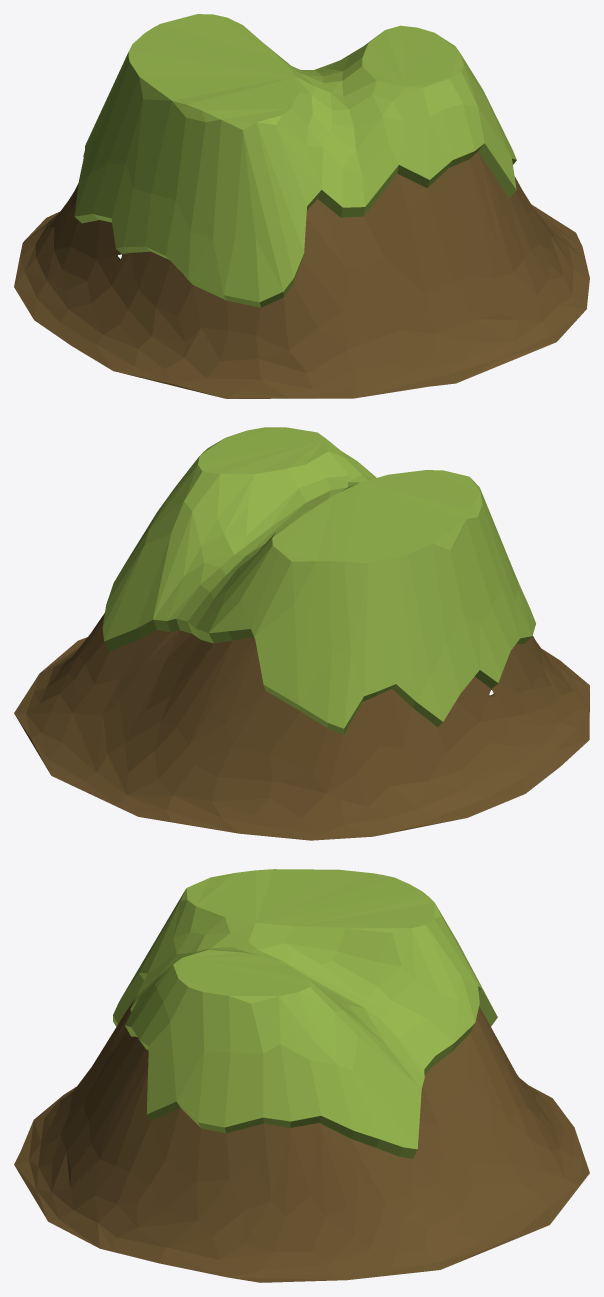
The model's file is mountain1.fbx.
The picture shows the model from 3 angles, top to bottom: view 1: azimuth 30°, elevation 25°; view 2: azimuth 150°, elevation 25°; view 3: azimuth 270°, elevation 25°; orthographic projection.
Visible parts, largest first — view 1: mountain1_LOD0; view 2: mountain1_LOD0; view 3: mountain1_LOD0.
Boxes of the visible parts, box(x1,y1,x2,y2) form: mountain1_LOD0: box(14, 14, 589, 398); mountain1_LOD0: box(14, 427, 589, 840); mountain1_LOD0: box(14, 869, 589, 1282).
Size of what is drawn, in the model's own units: 217 by 94.46 by 220.
